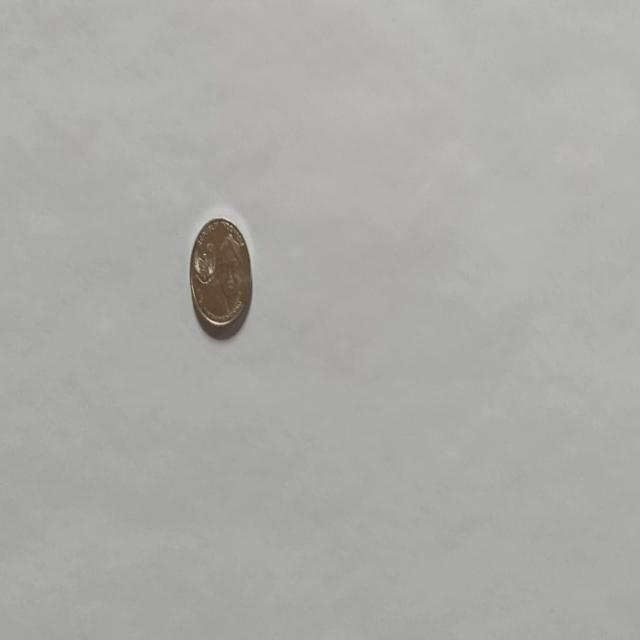dua ratus rupiah: (188, 214, 252, 338)
